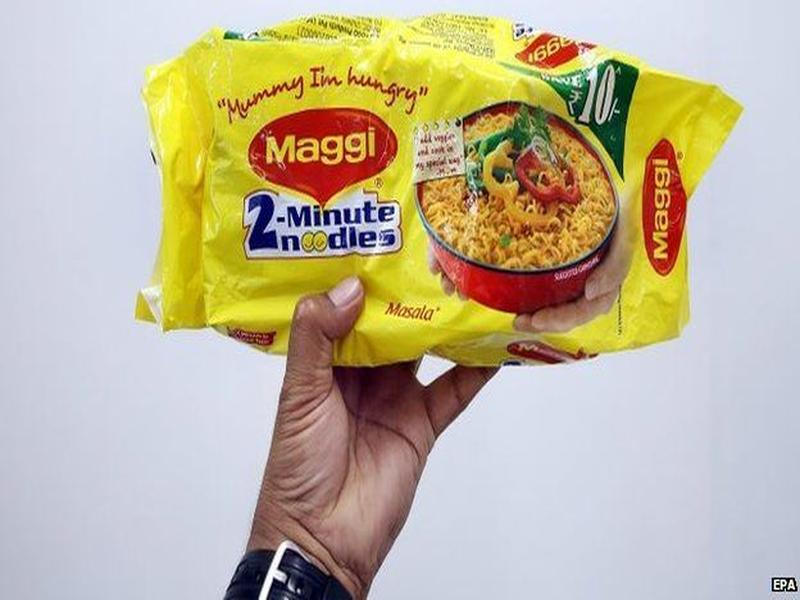maggi-small: (146, 14, 745, 363)
